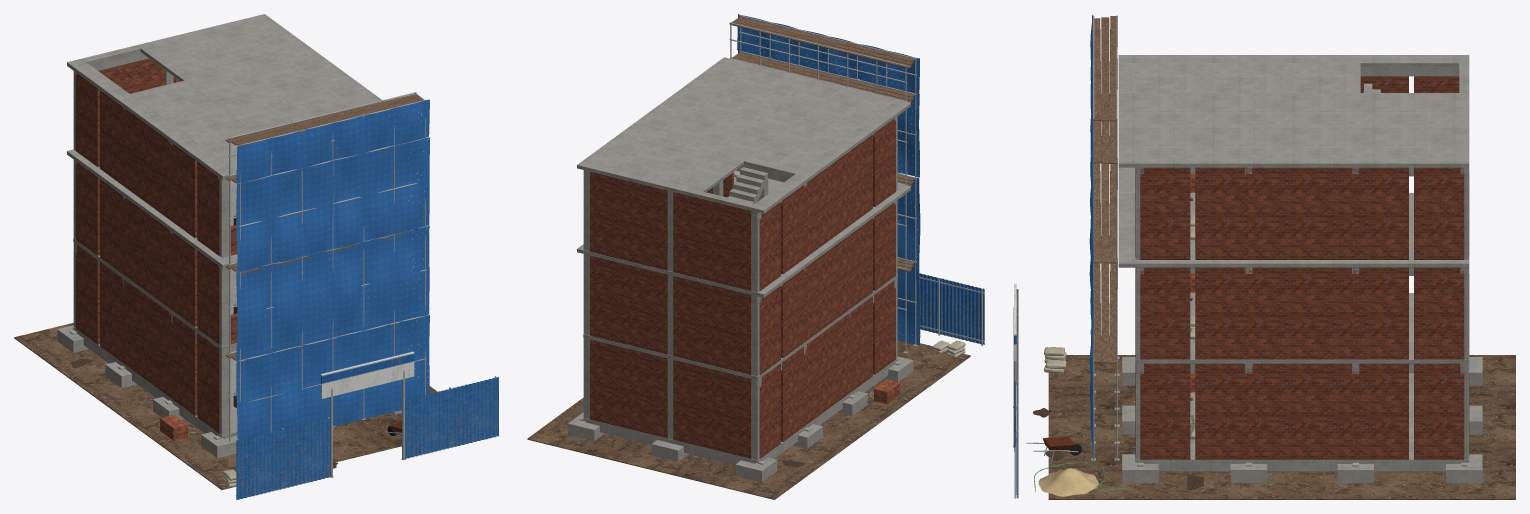
File: phase-3.glb
The picture shows the model from 3 angles, left to right: view 1: azimuth 30°, elevation 25°; view 2: azimuth 150°, elevation 25°; view 3: azimuth 270°, elevation 25°; orthographic projection. The views are drawn at different scales.
Visible parts, largest first — view 1: Slab_4, Temp_SafetyNet_3, Temp_SafetyNet_2, Temp_SafetyNet_1, Ground_1, Temp_SafetyNet_4, Temp_Hoarding_1, Temp_Hoarding_2, Wall_3, Wall_16, Wall_30, Temp_SiteBoard_1 (+23 smaller); view 2: Slab_4, Ground_1, Wall_11, Wall_38, Wall_24, Wall_39, Wall_25, Wall_12, Temp_SafetyNet_4, Wall_3, Temp_Hoarding_1, Wall_16 (+36 smaller); view 3: Slab_4, Ground_1, Wall_4, Wall_31, Wall_17, Wall_6, Wall_2, Slab_3, Wall_33, Wall_29, Wall_15, Wall_19 (+24 smaller).
Part boxes in pixels (x1,y1,x2,y2): Slab_4: (67, 14, 404, 179); Temp_SafetyNet_3: (236, 137, 429, 272); Temp_SafetyNet_2: (236, 226, 429, 360); Temp_SafetyNet_1: (236, 315, 429, 440); Ground_1: (14, 323, 437, 489); Temp_SafetyNet_4: (236, 99, 429, 183); Temp_Hoarding_1: (236, 417, 330, 499); Temp_Hoarding_2: (405, 376, 498, 458); Wall_3: (123, 279, 171, 397); Wall_16: (123, 197, 171, 309); Wall_30: (123, 108, 171, 220); Temp_SiteBoard_1: (321, 351, 414, 398); Slab_4: (577, 57, 910, 213); Ground_1: (527, 340, 970, 499); Wall_11: (673, 359, 751, 458); Wall_38: (673, 192, 751, 290); Wall_24: (673, 276, 751, 374); Wall_39: (590, 171, 667, 270); Wall_25: (590, 255, 667, 354); Wall_12: (590, 339, 667, 438); Temp_SafetyNet_4: (737, 14, 919, 94); Wall_3: (805, 313, 850, 425); Temp_Hoarding_1: (903, 273, 984, 345); Wall_16: (805, 235, 850, 341); Slab_4: (1118, 55, 1469, 167); Ground_1: (1048, 355, 1515, 499); Wall_4: (1249, 364, 1355, 459); Wall_31: (1249, 167, 1355, 259); Wall_17: (1249, 267, 1355, 359); Wall_6: (1195, 364, 1248, 459); Wall_2: (1355, 364, 1408, 459); Slab_3: (1118, 167, 1469, 267); Wall_33: (1195, 167, 1248, 259); Wall_29: (1355, 167, 1408, 259); Wall_15: (1355, 267, 1408, 359); Wall_19: (1195, 267, 1248, 359).
Bounding box in the file's own units: 10.2 × 11.94 × 15.07.
16 materials, 16 textured.
